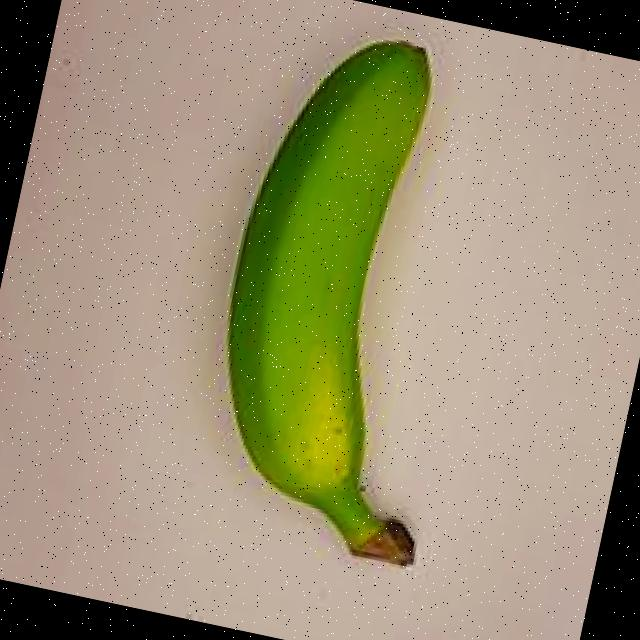Unripe: (159, 0, 555, 595)
